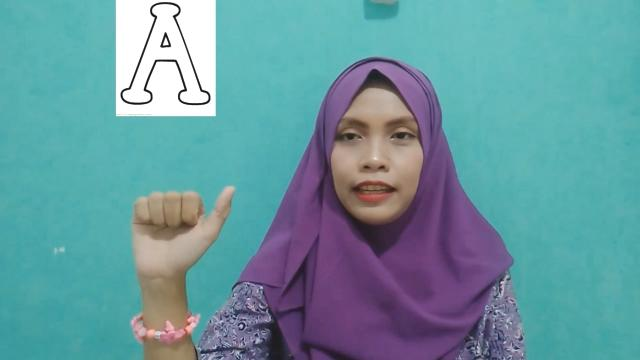A: (130, 184, 234, 284)
